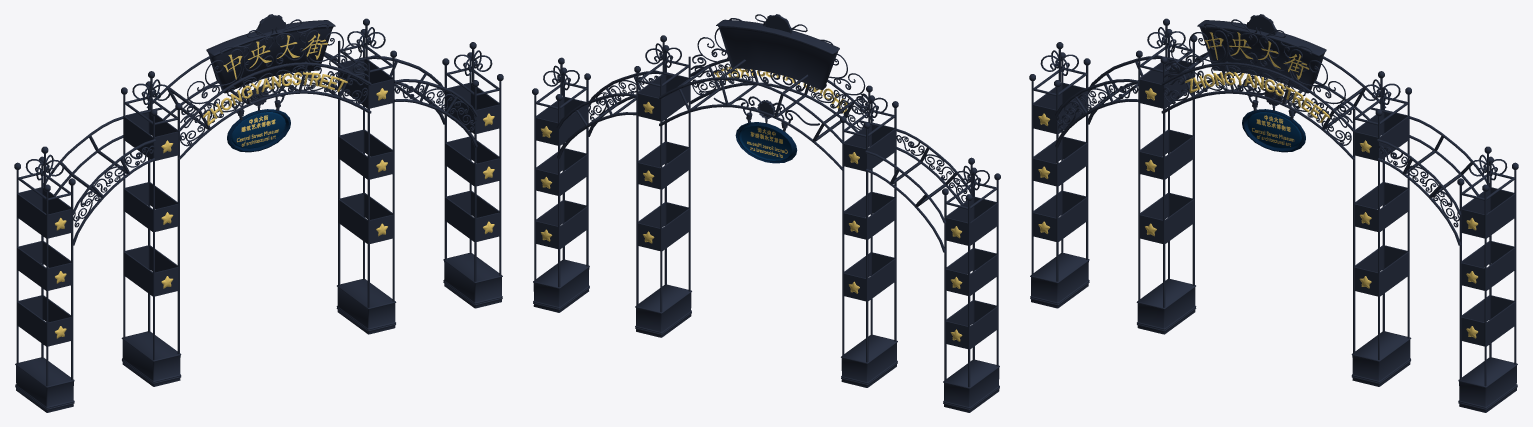
File: ZhongYangDaJie.fbx
The picture shows the model from 3 angles, left to right: view 1: azimuth 30°, elevation 25°; view 2: azimuth 150°, elevation 25°; view 3: azimuth 330°, elevation 25°; orthographic projection. The views are drawn at different scales.
Parts seen in each view (by area): view 1: ZhongYangDaJie; view 2: ZhongYangDaJie; view 3: ZhongYangDaJie.
Boxes of the visible parts, x1=… form: ZhongYangDaJie: x1=14, y1=14, x2=503, y2=412; ZhongYangDaJie: x1=532, y1=14, x2=1000, y2=412; ZhongYangDaJie: x1=1029, y1=14, x2=1518, y2=412.
Bounding box in the file's own units: 71.11 × 50.39 × 9.
1 material, 1 textured.
